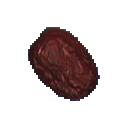gd: (21, 22, 108, 108)
